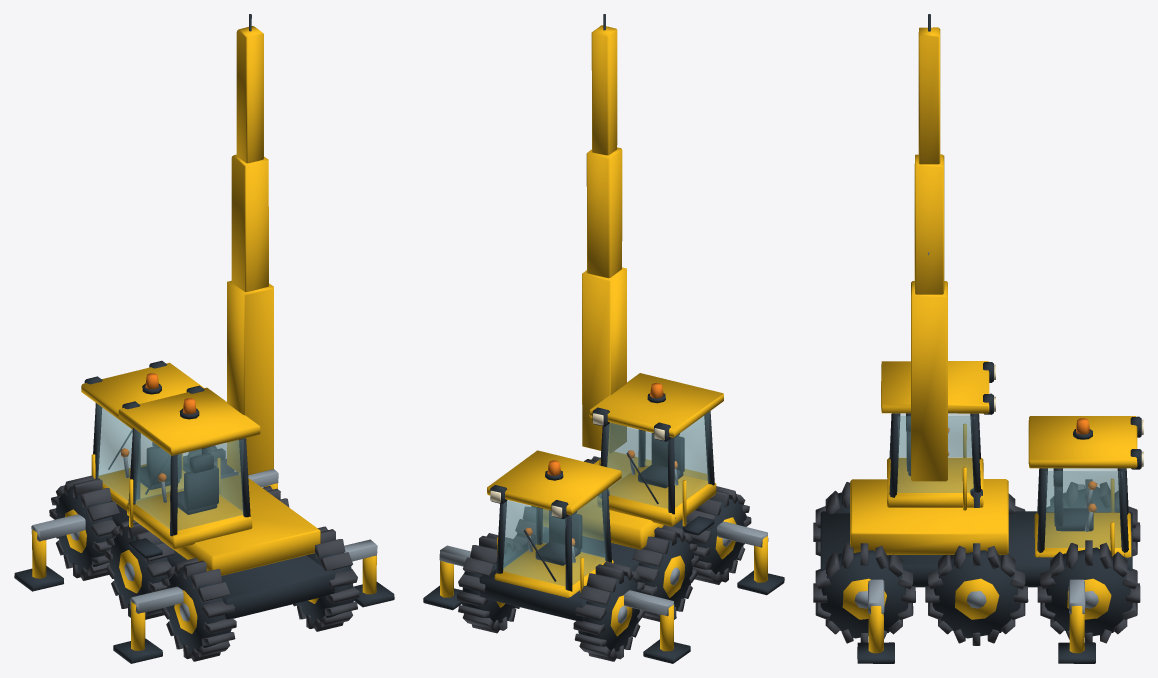
The model's file is crane-low.glb.
3 views of the same model, side by side, from view 1: azimuth 30°, elevation 25°; view 2: azimuth 150°, elevation 25°; view 3: azimuth 270°, elevation 25° (orthographic). The views are drawn at different scales.
Visible parts, largest first — view 1: telescoping section, cab sill.004, side glazing.006, chassis.001, headlight housing.008, cab sill.003, tread block.096, tread block.064, tread block.144, side glazing.004, tread block.080, tire.006 (+12 smaller); view 2: telescoping section, cab sill.004, cab sill.003, chassis.001, side glazing.004, side glazing.006, headlight housing.008, tread block.064, tread block.112, tread block.080, tread block.096, tire.004 (+10 smaller); view 3: cab sill.004, telescoping section, cab sill.003, chassis.001, side glazing.004, tire.008, tire.007, tire.009, side glazing.006, tread block.112, tread block.128, tread block.144 (+12 smaller).
Part boxes in pixels (x1,y1,x2,y2): telescoping section: [227, 26, 273, 475]; cab sill.004: [118, 387, 320, 575]; side glazing.006: [134, 429, 243, 530]; chassis.001: [84, 360, 335, 619]; headlight housing.008: [122, 385, 250, 558]; cab sill.003: [81, 362, 204, 510]; tread block.096: [161, 558, 236, 661]; tread block.064: [49, 475, 119, 580]; tread block.144: [293, 526, 359, 631]; side glazing.004: [96, 404, 190, 500]; tread block.080: [104, 519, 174, 619]; tire.006: [166, 570, 231, 653]; telescoping section: [582, 25, 626, 452]; cab sill.004: [543, 373, 723, 549]; cab sill.003: [487, 450, 621, 597]; chassis.001: [479, 485, 689, 621]; side glazing.004: [503, 490, 606, 586]; side glazing.006: [606, 412, 709, 508]; headlight housing.008: [592, 407, 714, 535]; tread block.064: [573, 561, 644, 661]; tread block.112: [456, 533, 523, 633]; tread block.080: [632, 525, 698, 621]; tread block.096: [686, 486, 751, 584]; tire.004: [578, 574, 641, 653]; cab sill.004: [850, 361, 1008, 554]; telescoping section: [911, 27, 947, 481]; cab sill.003: [1028, 416, 1137, 557]; chassis.001: [820, 416, 1141, 587]; side glazing.004: [1045, 468, 1121, 547]; tire.008: [932, 550, 1020, 638]; tire.007: [1045, 547, 1132, 637]; tire.009: [820, 550, 908, 638]; side glazing.006: [897, 413, 974, 492]; tread block.112: [1037, 540, 1140, 643]; tread block.128: [925, 543, 1028, 645]; tread block.144: [813, 542, 915, 643].
Size of the model in its own units: 5.24 by 11.65 by 5.6.
